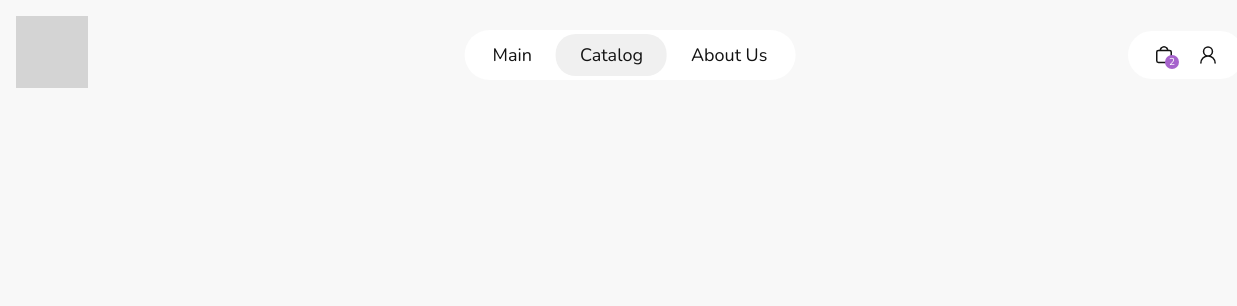
Test case: Header component › displays user name correctly when user has first and last name
Click the button named "profile menu".
click(1208, 55)  # box [1196, 43, 1220, 67]
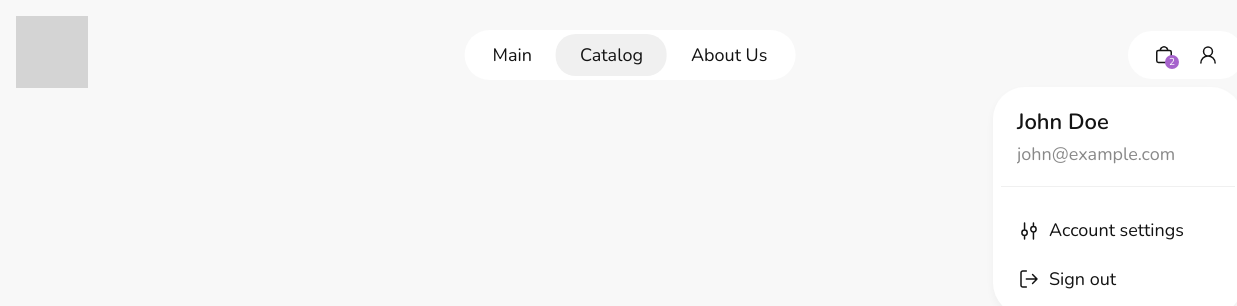
Now the text "John Doe" is shown, box [1017, 107, 1109, 137]
